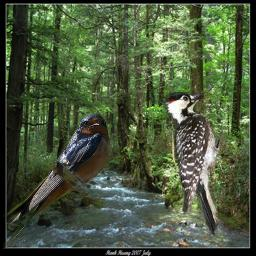Swallow: (3, 113, 110, 249)
Woodpecker: (158, 90, 229, 239)
